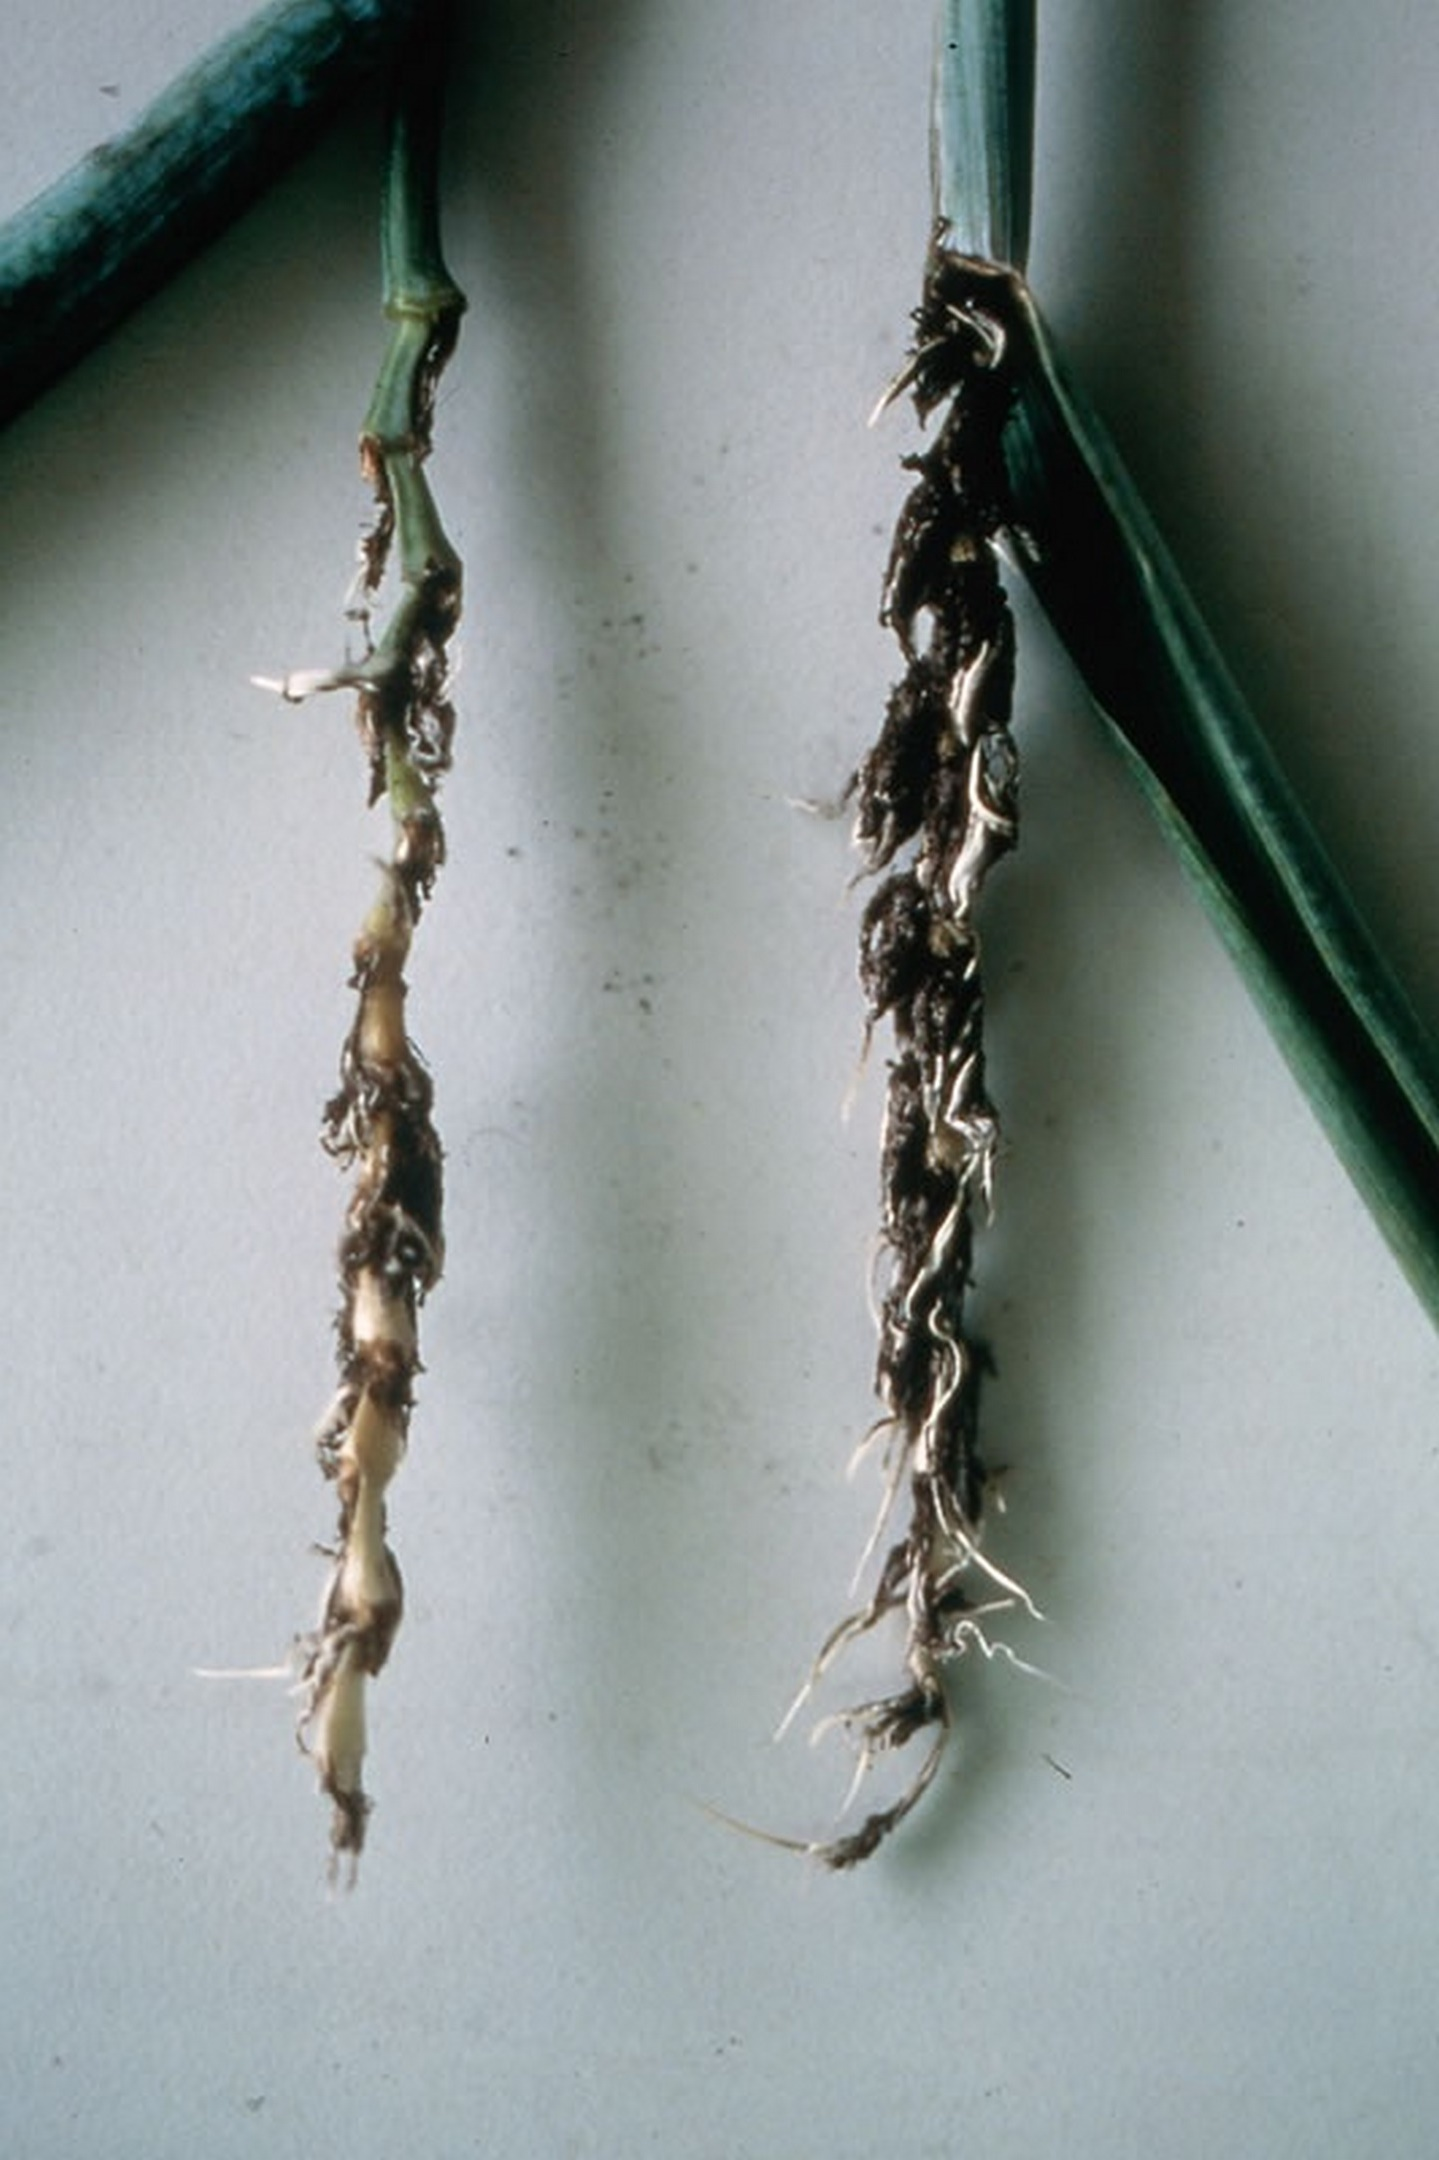Wheat Loose Smut: (756, 276, 1107, 1763)
